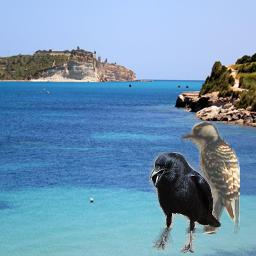Crow: (149, 152, 221, 253)
Woodpecker: (180, 121, 240, 234)
